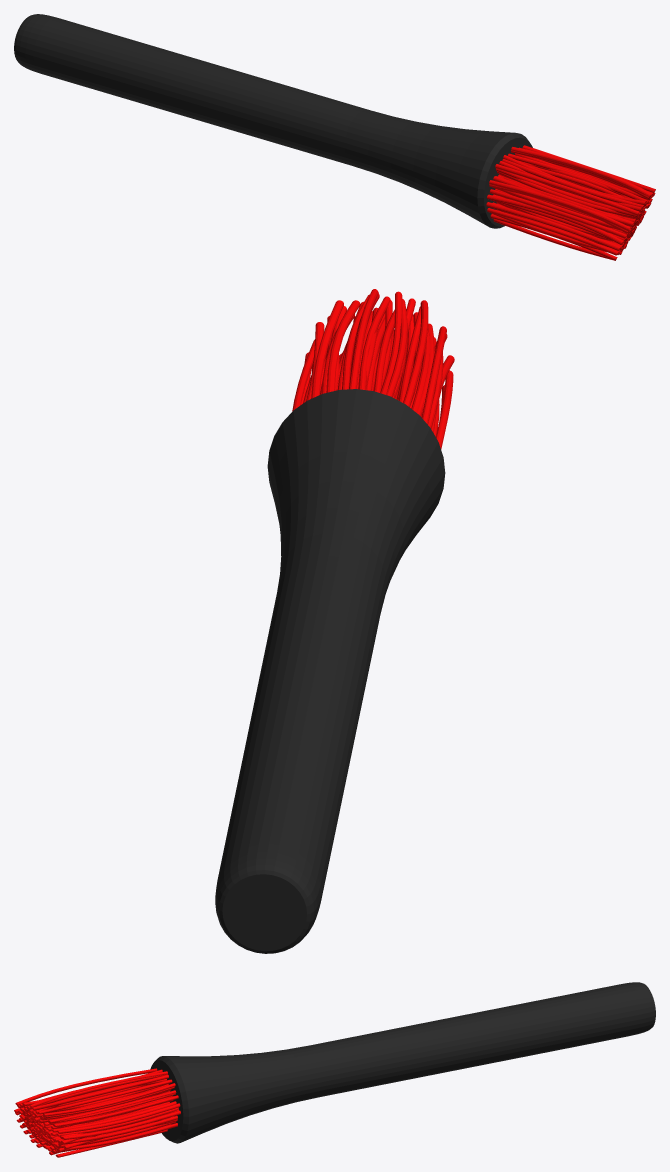
File: Make-up brush.gltf
3 views of the same model, one above another, from view 1: azimuth 30°, elevation 25°; view 2: azimuth 150°, elevation 25°; view 3: azimuth 270°, elevation 25° (orthographic). The views are drawn at different scales.
Visible parts, largest first — view 1: node-0; view 2: node-0; view 3: node-0.
Boxes of the visible parts, x1=… form: node-0: x1=14, y1=14, x2=655, y2=260; node-0: x1=215, y1=289, x2=454, y2=953; node-0: x1=14, y1=982, x2=655, y2=1157.
Size of the model in its own units: 195442 by 52303 by 376458.
